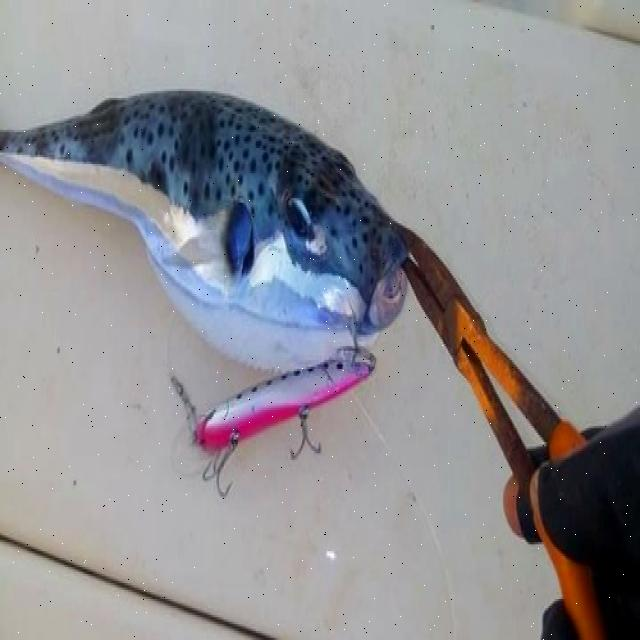Balik: (0, 92, 407, 371)
